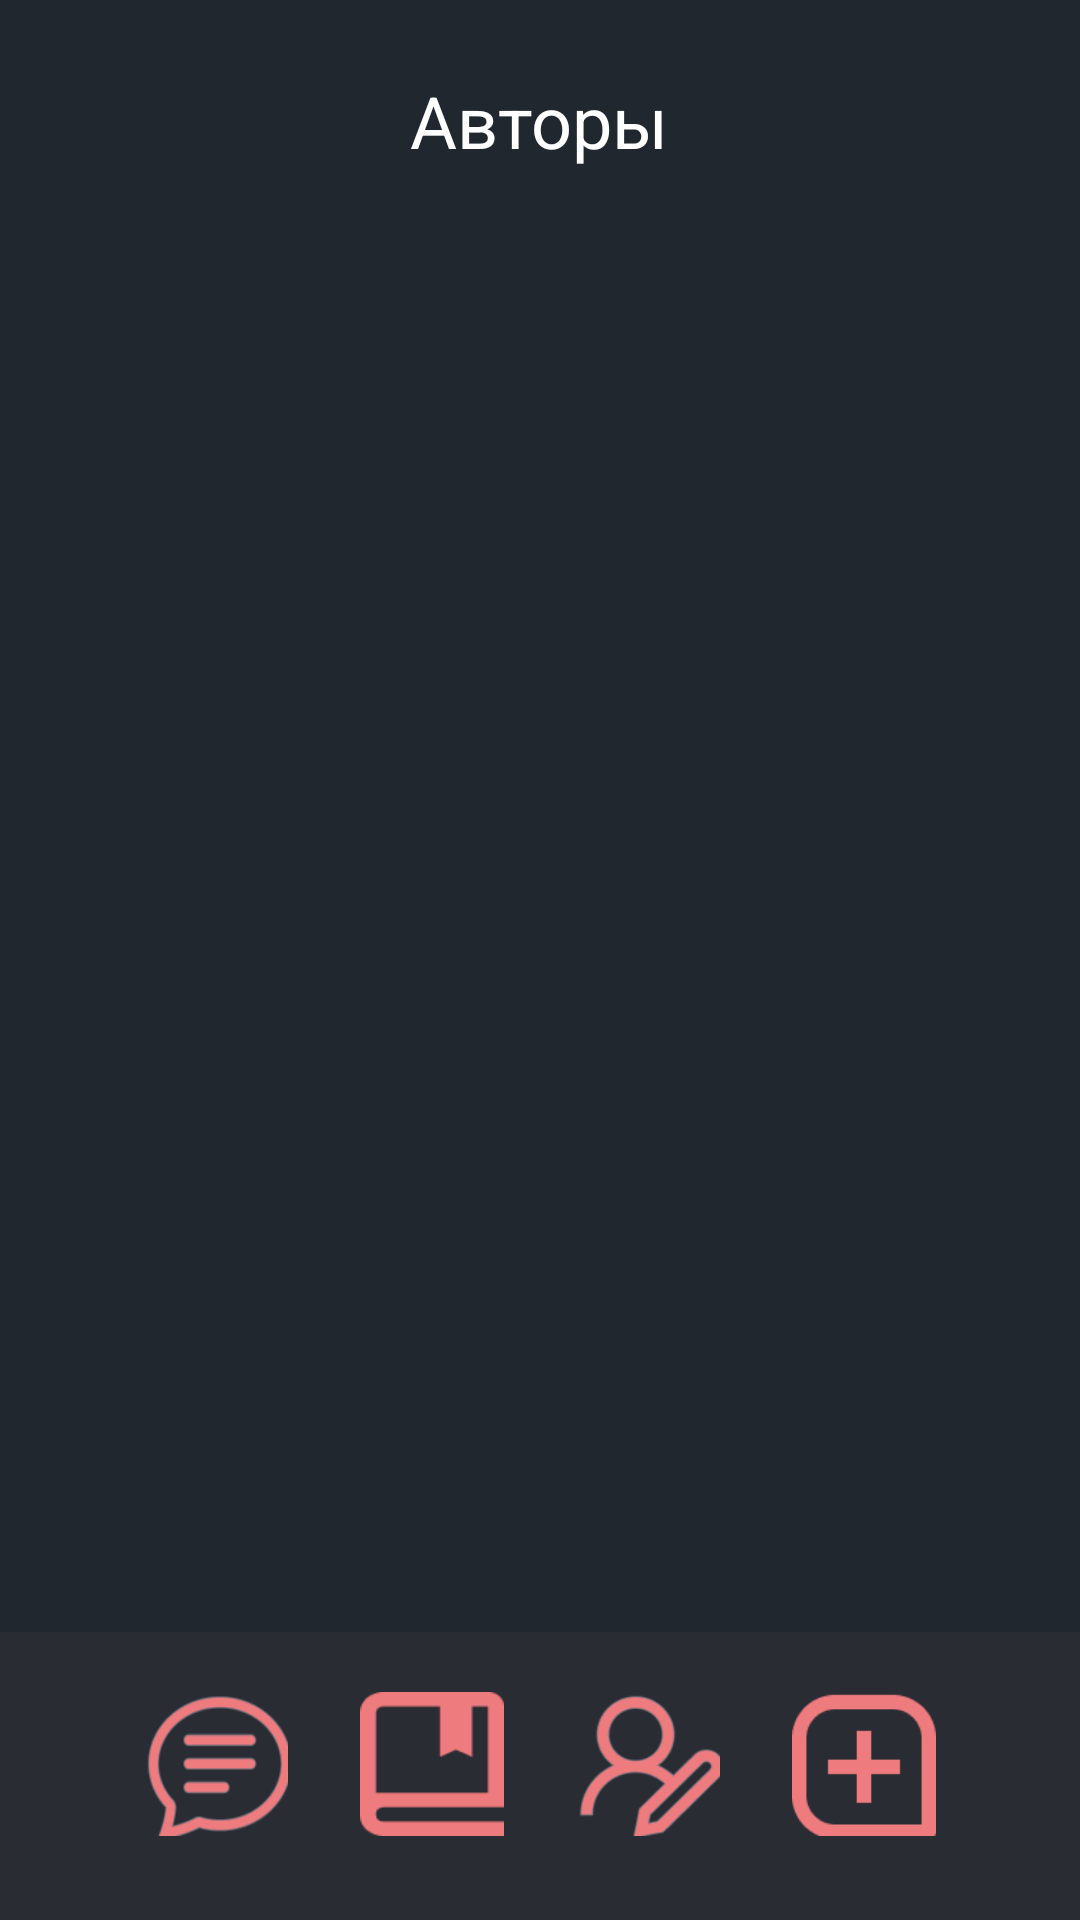

Named icons in this screenshot (1080x1920) and their bounding boxes, detection(x1, y1, x2, y2):
author: detection(580, 1696, 720, 1836)
book: detection(360, 1692, 504, 1836)
message: detection(148, 1696, 288, 1836)
plus: detection(792, 1694, 936, 1836)
